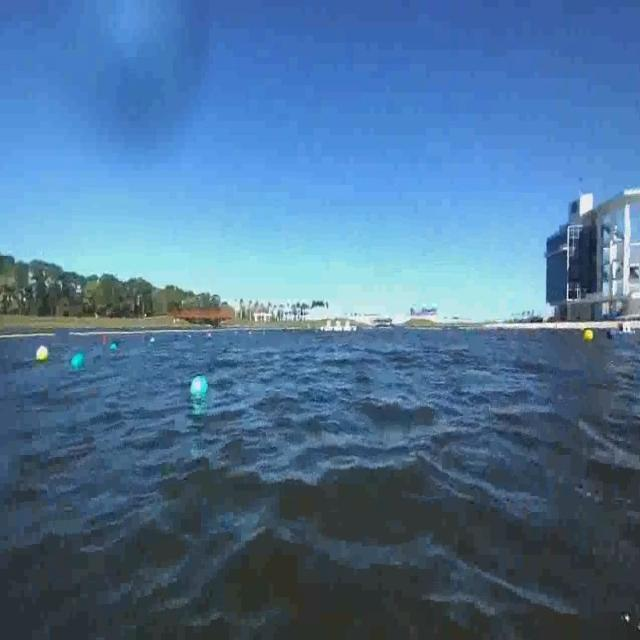green-buoy: (188, 372, 208, 400)
yellow-buoy: (34, 345, 47, 363)
